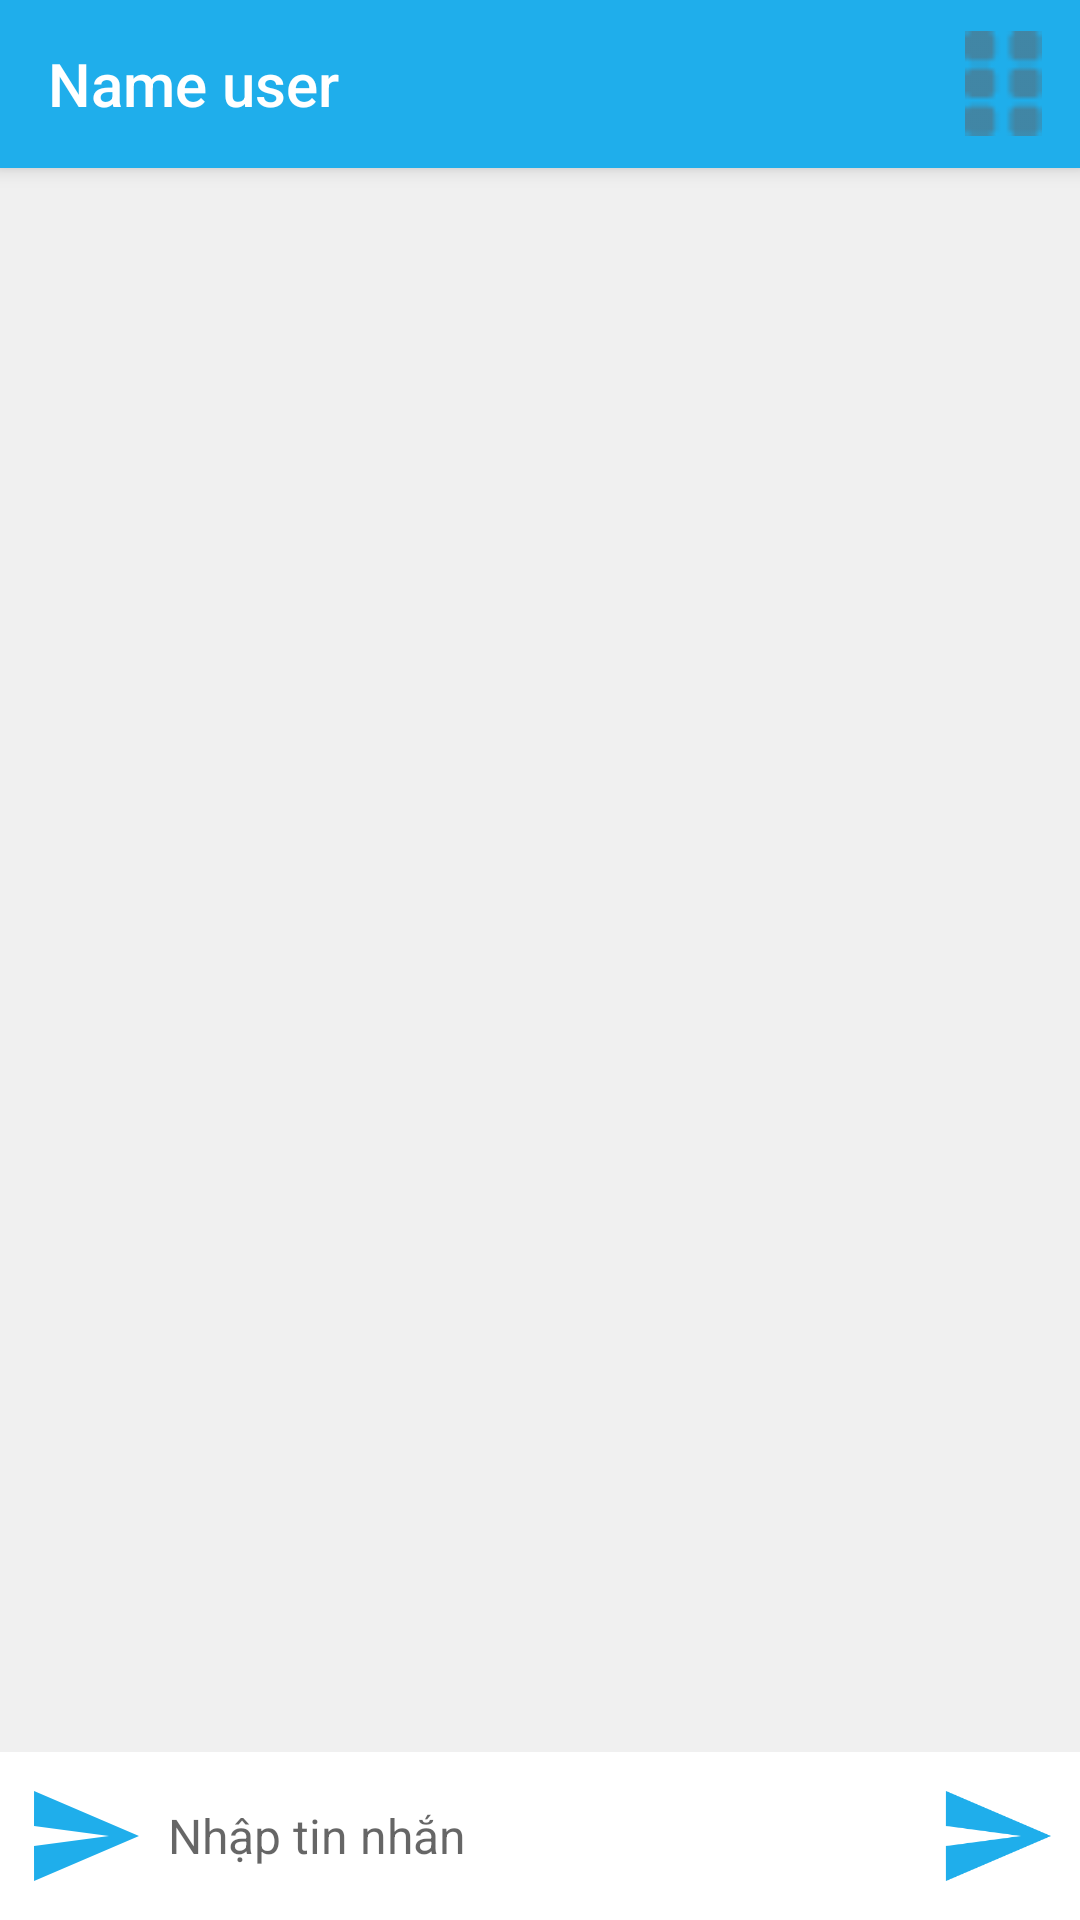

Icon bounding boxes for this 1080*1920 phone screenshot, format bbox=[x1, y1, x2, y2]:
Send Message: bbox=[945, 1791, 1051, 1881]
